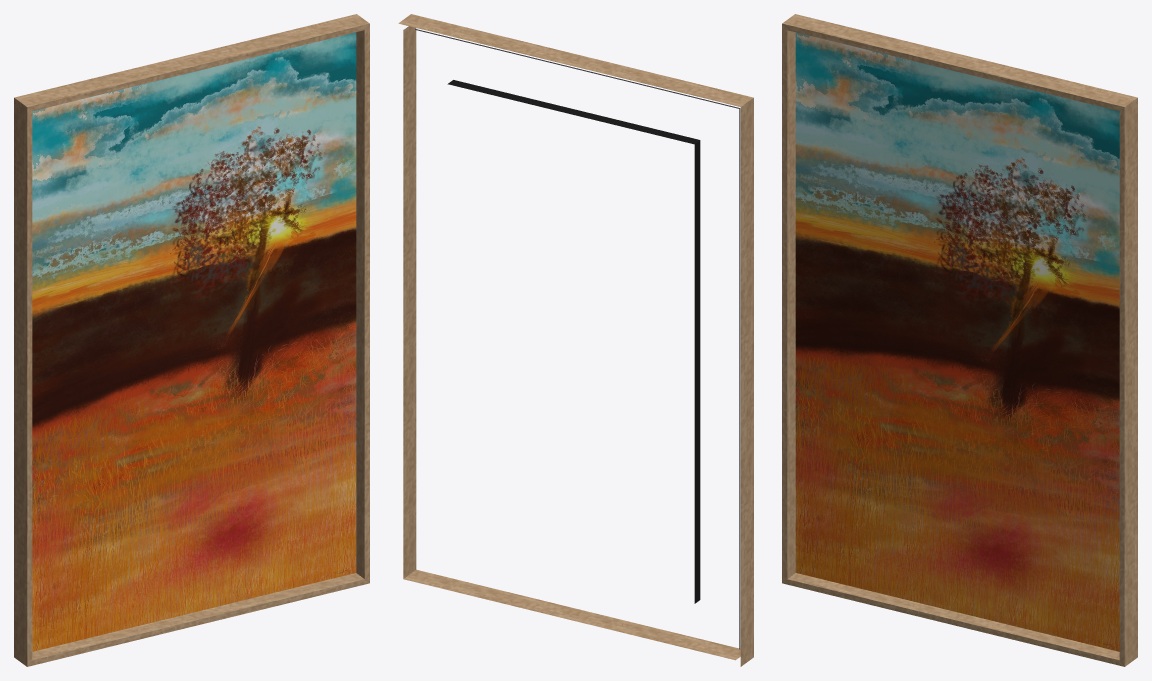
File: os012_moyen_caisse-chene.glb
3 renders of one model, left to right at view 1: azimuth 30°, elevation 25°; view 2: azimuth 150°, elevation 25°; view 3: azimuth 330°, elevation 25°, orthographic.
Visible parts, largest first — view 1: os012_moyen_caisse-chene; view 2: os012_moyen_caisse-chene; view 3: os012_moyen_caisse-chene.
Part boxes in pixels (x1=…): os012_moyen_caisse-chene: x1=14, y1=14, x2=369, y2=666; os012_moyen_caisse-chene: x1=398, y1=14, x2=753, y2=666; os012_moyen_caisse-chene: x1=782, y1=14, x2=1137, y2=666.
Size of the model in its own units: 0.5304 by 0.828 by 0.035.
4 materials, 2 textured.
